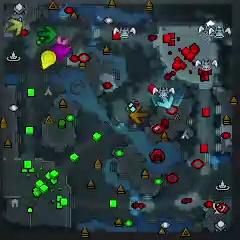p3: (50, 43, 71, 61)
p4: (40, 50, 56, 70)
x1: (56, 34, 71, 45)
x2: (6, 18, 23, 36)
x3: (157, 92, 174, 108)
x4: (38, 24, 57, 44)
x5: (129, 105, 149, 124)
